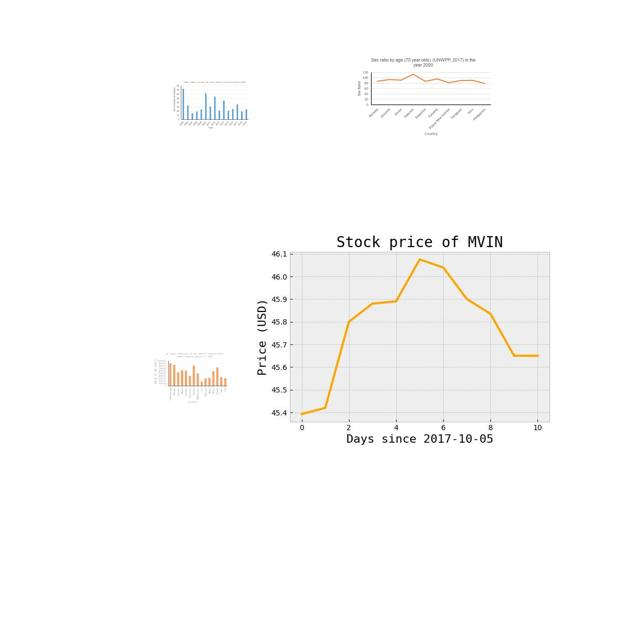Graph: (248, 210, 583, 461), (354, 56, 493, 139), (152, 351, 229, 405), (172, 80, 250, 130)
